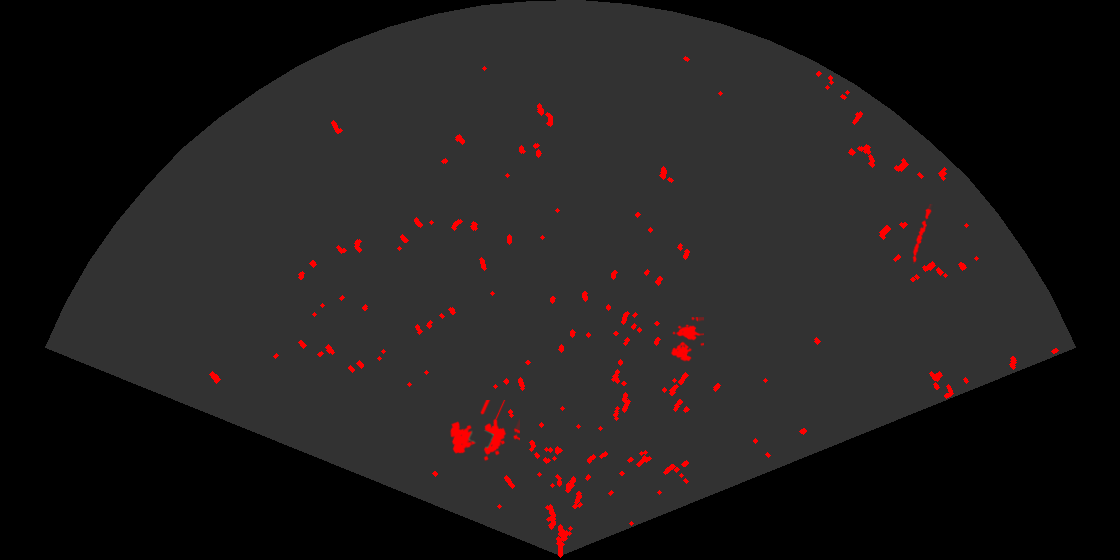cage: (448, 400, 520, 463), (669, 317, 704, 363)
chain: (911, 204, 934, 264)
